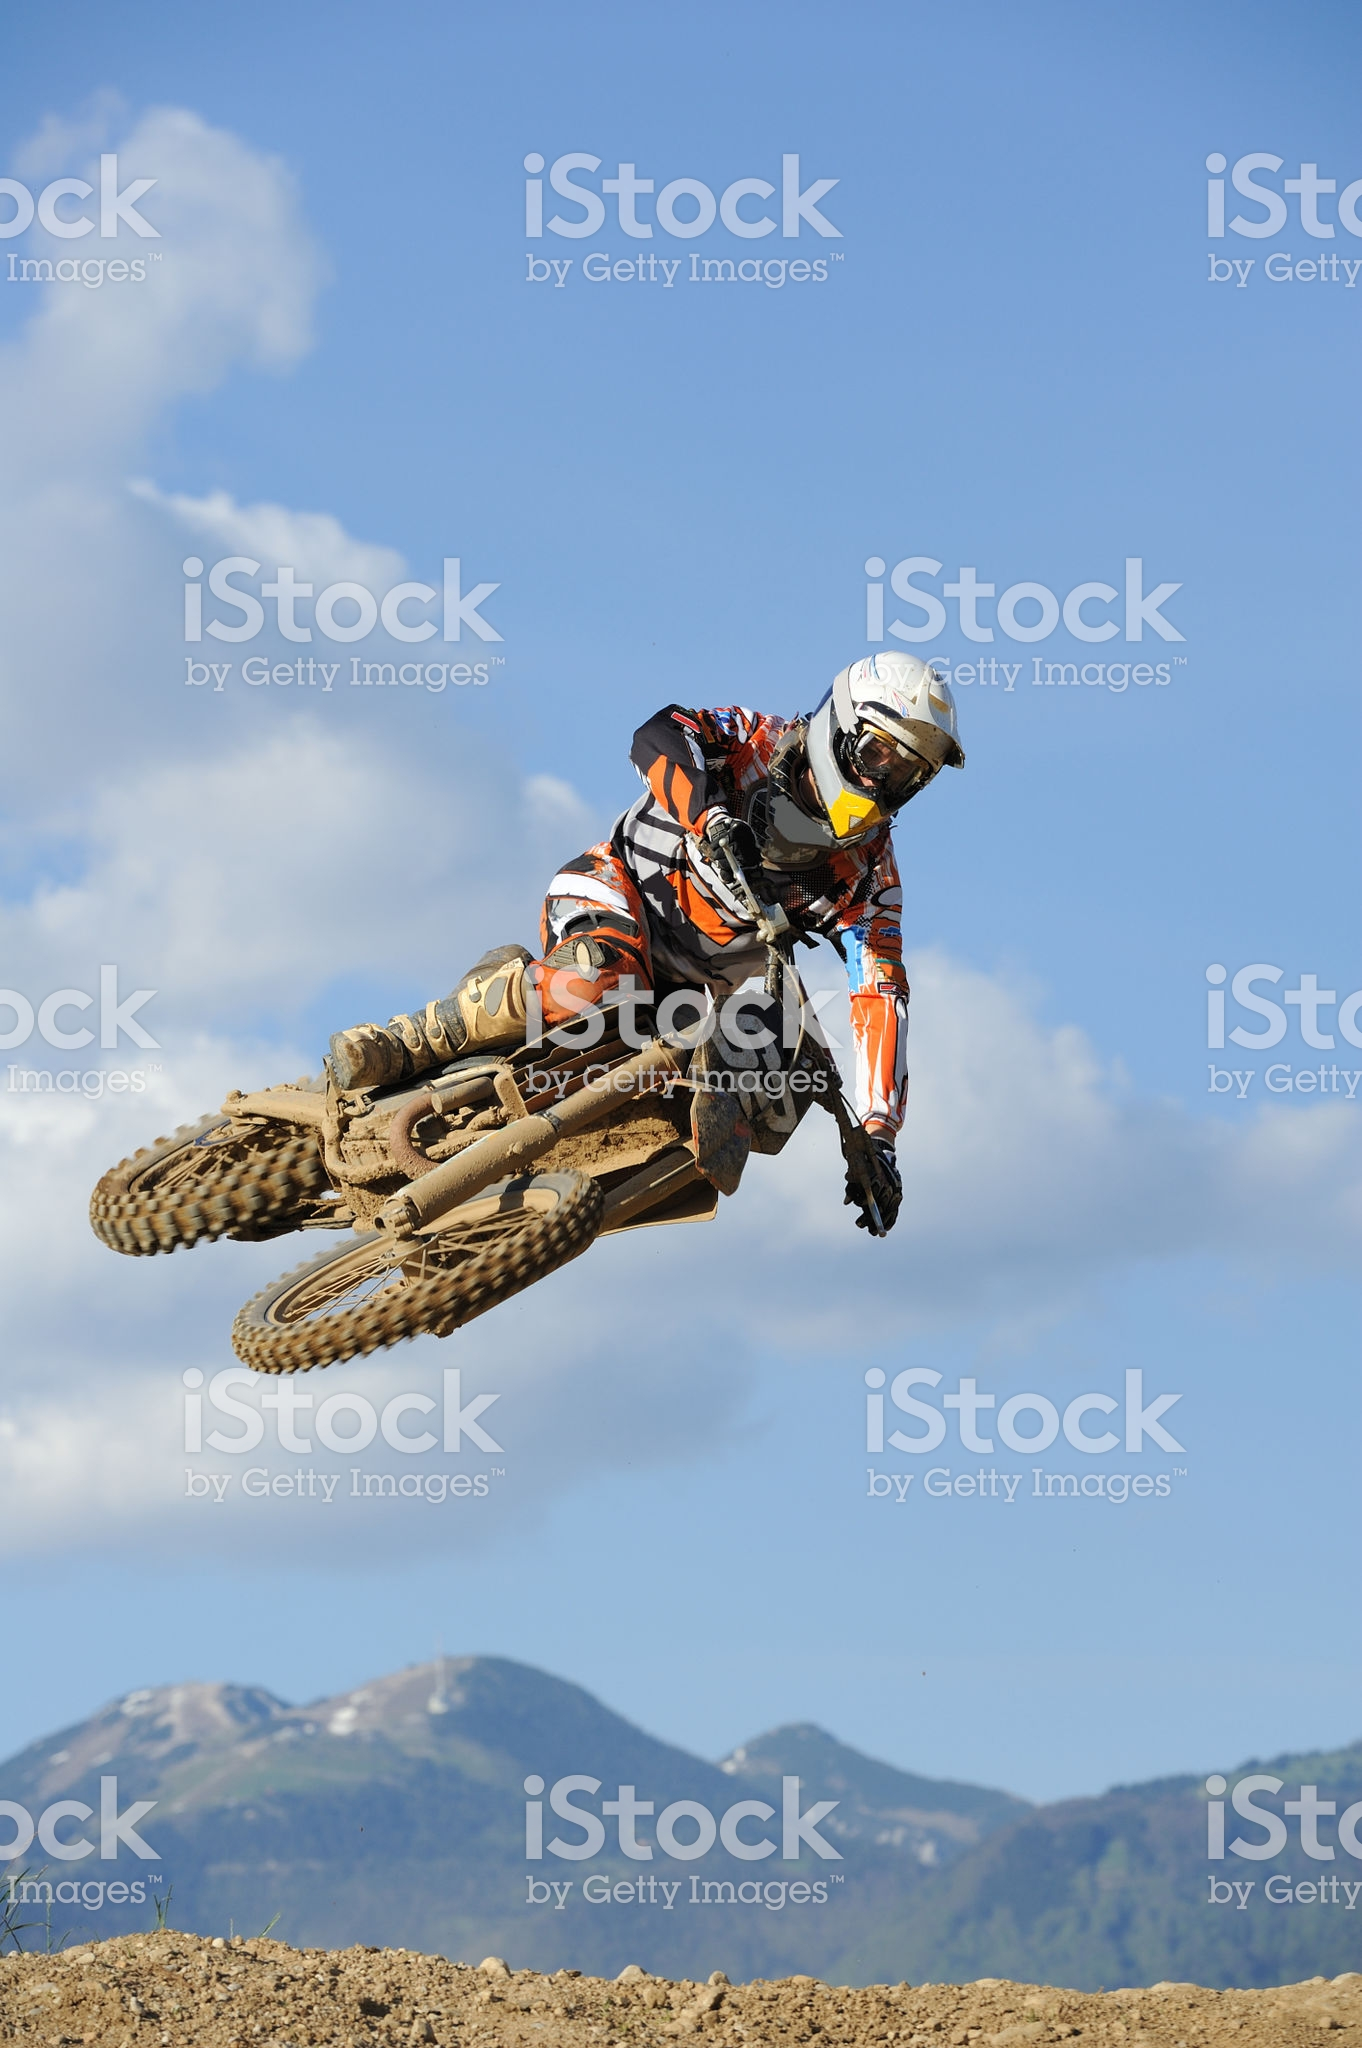helmet: (815, 649, 974, 817)
